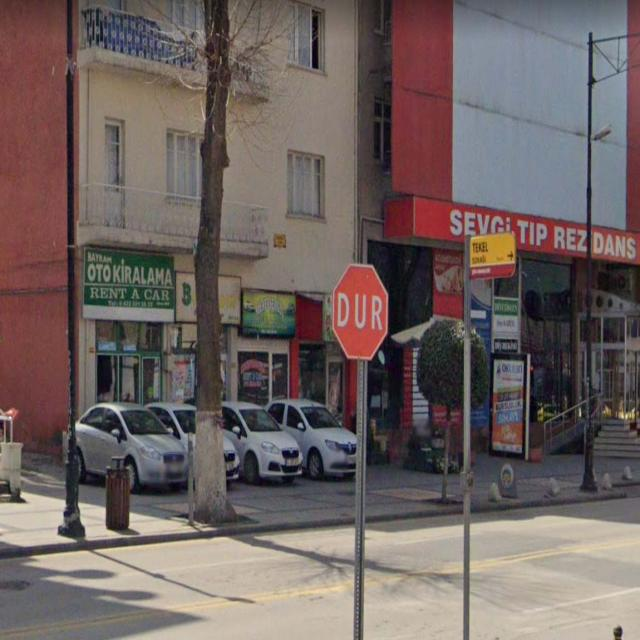dur: (333, 264, 385, 362)
